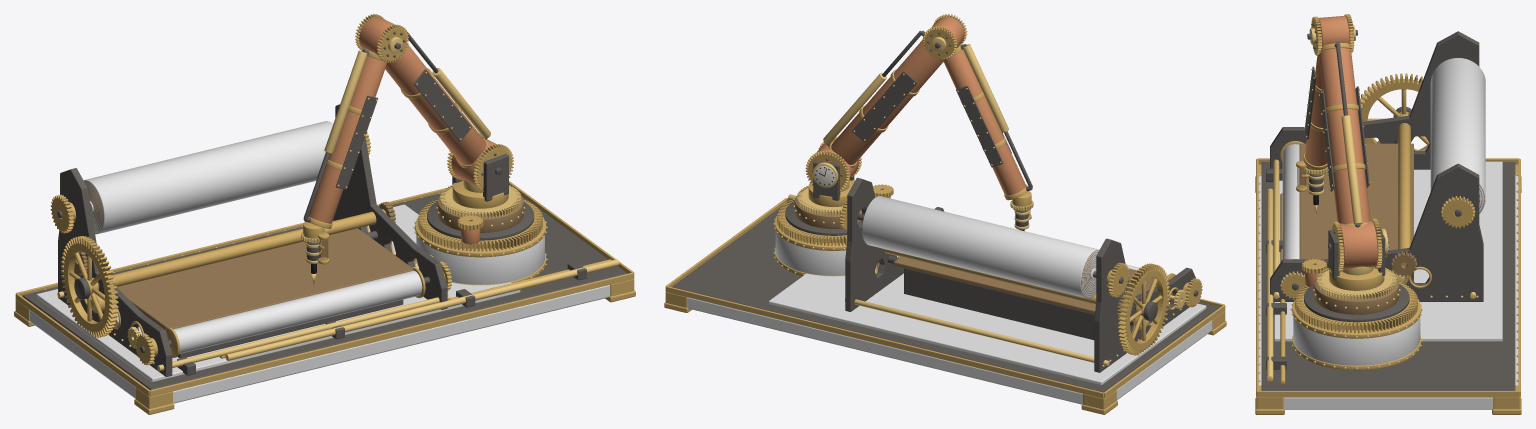
File: machine.glb
3 renders of one model, left to right at view 1: azimuth 30°, elevation 25°; view 2: azimuth 150°, elevation 25°; view 3: azimuth 270°, elevation 25°, orthographic. The views are drawn at different scales.
Visible parts, largest first — view 1: Static_DarkIron, Static_Brass, Static_Wood_Walnut, Static_Bronze, RollAssembly, Arm_Fore, FrontAssembly, Arm_Upper, Static_Brass_Polished, Arm_Base, BigWheel_Left, Arm_Pen (+1 smaller); view 2: Static_DarkIron, Static_Wood_Walnut, RollAssembly, Static_Brass, Arm_Fore, Arm_Upper, Static_Bronze, BigWheel_Left, Arm_Base, Static_Brass_Polished, Arm_Pen, Gear_RollDrive_L; view 3: Static_DarkIron, Static_Wood_Walnut, Static_Brass, Static_Bronze, Arm_Upper, RollAssembly, Arm_Base, Arm_Fore, Static_Brass_Polished, FrontAssembly, BigWheel_Left, Gear_RollDrive_R (+4 smaller).
Part boxes in pixels (x1,y1,x2,y2): Static_DarkIron: (22,104,626,389); Static_Brass: (14,181,635,414); Static_Wood_Walnut: (30,204,610,403); Static_Bronze: (117,196,523,329); RollAssembly: (57,121,333,234); Arm_Fore: (303,14,408,228); FrontAssembly: (140,267,430,357); Arm_Upper: (385,30,490,168); Static_Brass_Polished: (44,192,619,371); Arm_Base: (440,133,521,218); BigWheel_Left: (61,236,118,337); Arm_Pen: (301,221,329,284); Static_DarkIron: (672,177,1218,392); Static_Wood_Walnut: (687,231,1212,404); RollAssembly: (857,196,1123,298); Static_Brass: (664,198,1226,414); Arm_Fore: (922,14,1032,200); Arm_Upper: (823,30,943,167); Static_Bronze: (795,196,1156,314); BigWheel_Left: (1118,263,1169,355); Arm_Base: (797,136,861,215); Static_Brass_Polished: (773,194,1199,366); Arm_Pen: (1010,191,1033,230); Gear_RollDrive_L: (1108,262,1129,297); Static_DarkIron: (1261,31,1515,390); Static_Wood_Walnut: (1258,161,1518,409); Static_Brass: (1255,123,1521,414); Static_Bronze: (1299,143,1413,314); Arm_Upper: (1318,42,1370,227); RollAssembly: (1430,58,1485,216); Arm_Base: (1316,218,1396,300); Arm_Fore: (1303,14,1357,169); Static_Brass_Polished: (1258,159,1518,381); FrontAssembly: (1280,141,1303,290); BigWheel_Left: (1360,73,1429,149); Gear_RollDrive_R: (1441,196,1475,228).
Size of the model in its own units: 2.62 by 1.54 by 1.26.
